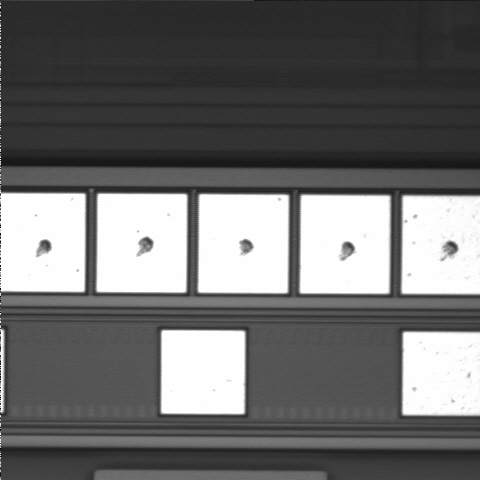pad: (198, 194, 288, 293), (300, 195, 390, 294), (97, 194, 187, 292), (161, 330, 245, 414)
